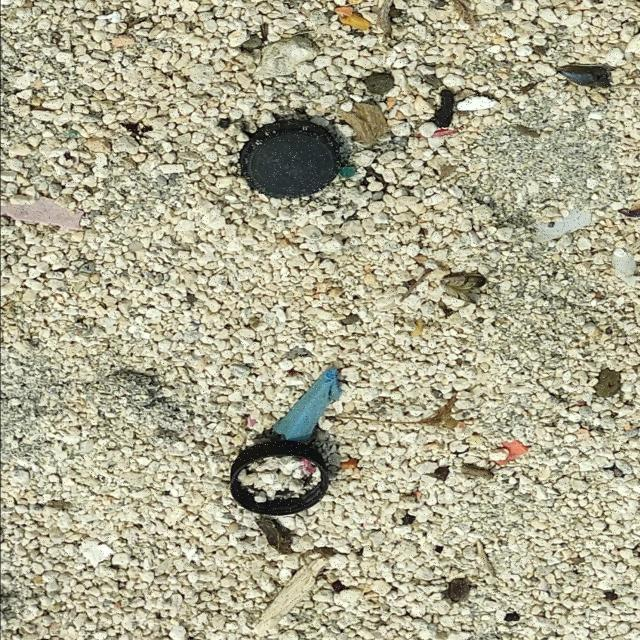plastic_waste: (238, 120, 344, 201), (228, 441, 332, 518)
